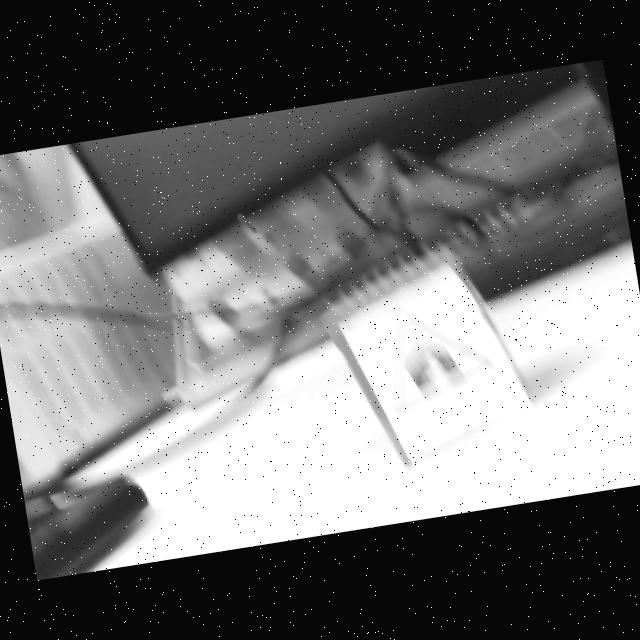Earthquake: (393, 310, 493, 411)
